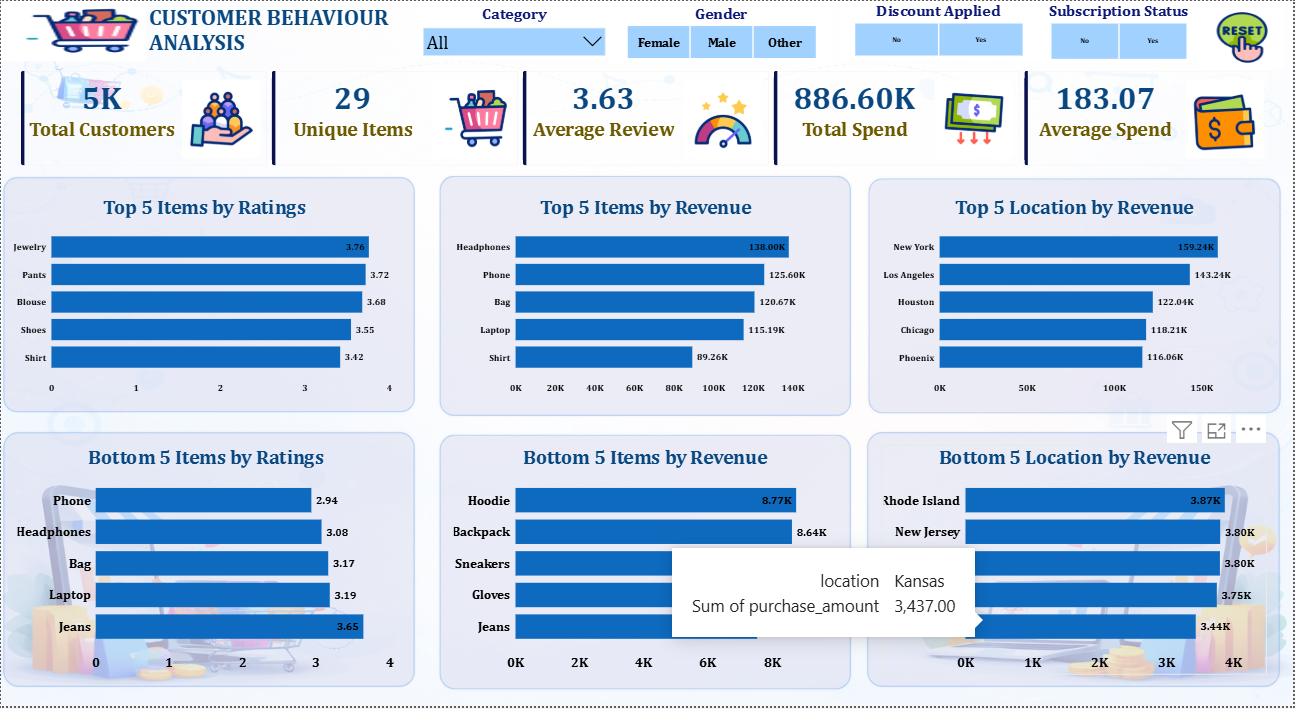

Layout of this report page (visuals, bound fields, positions):
{"tool":"powerbi","page":{"name":"Best and worst","canvas":[2200,1200],"ordinal":1},"visuals":[{"type":"cardVisual","fields":{"Data":["ecom_sales sales_data.Total Customers","ecom_sales sales_data.Unique Items","ecom_sales sales_data.Average Review","ecom_sales sales_data.Total Spend","ecom_sales sales_data.Average Spend"]},"box":[17.5,102.5,2162.5,195],"z":0},{"type":"shape","box":[741.7,293.8,708.3,416.7],"z":250,"group":"g1"},{"type":"shape","box":[0,296.2,708.3,408.3],"z":250,"group":"g2"},{"type":"shape","box":[1471.7,297.2,709.9,408],"z":250,"group":"g8"},{"type":"shape","box":[0,729.2,708.3,441.7],"z":250,"group":"g3"},{"type":"shape","box":[1470.8,729.2,710.4,441.7],"z":250,"group":"g7"},{"type":"shape","box":[741.7,734.2,708.3,441.7],"z":250,"group":"g5"},{"type":"group","id":"g1","title":"Group 1","box":[741.7,293.8,708.3,416.7],"z":500,"group":"g6"},{"type":"group","id":"g2","title":"Group 1","box":[0,296.2,708.3,408.3],"z":500,"group":"g4"},{"type":"group","id":"g3","title":"Group 1","box":[0,729.2,708.3,441.7],"z":1000},{"type":"group","id":"g4","title":"Group 5","box":[0,296.2,708.3,408.3],"z":2000},{"type":"group","id":"g5","title":"Group 1","box":[741.7,734.2,708.3,441.7],"z":3000},{"type":"group","id":"g6","title":"Group 5","box":[741.7,293.8,708.3,416.7],"z":4000},{"type":"group","id":"g7","title":"Group 1","box":[1470.8,729.2,710.4,441.7],"z":5000},{"type":"clusteredBarChart","title":"Top 5 Items by Ratings","fields":{"Category":["ecom_sales sales_data.item_purchased"],"Y":["Avg(ecom_sales sales_data.review_rating)"]},"box":[16.5,330.2,658,346.7],"z":6001},{"type":"group","id":"g8","title":"Group 2","box":[1471.7,297.2,709.9,408],"z":6002},{"type":"clusteredBarChart","title":"Bottom 5 Items by Ratings","fields":{"Category":["ecom_sales sales_data.item_purchased"],"Y":["Avg(ecom_sales sales_data.review_rating)"]},"box":[23.6,754.7,650.9,391.5],"z":6003},{"type":"clusteredBarChart","title":"Top 5 Items by Revenue","fields":{"Category":["ecom_sales sales_data.item_purchased"],"Y":["Sum(ecom_sales sales_data.purchase_amount)"]},"box":[768.9,330.2,658,346.7],"z":6004},{"type":"clusteredBarChart","title":"Bottom 5 Items by Revenue","fields":{"Category":["ecom_sales sales_data.item_purchased"],"Y":["Sum(ecom_sales sales_data.purchase_amount)"]},"box":[766.5,754.7,660.4,391.5],"z":6005},{"type":"clusteredBarChart","title":"Top 5 Location by Revenue","fields":{"Y":["Sum(ecom_sales sales_data.purchase_amount)"],"Category":["ecom_sales sales_data.location"]},"box":[1497.6,330.2,658,346.7],"z":6006},{"type":"clusteredBarChart","title":"Bottom 5 Location by Revenue","fields":{"Y":["Sum(ecom_sales sales_data.purchase_amount)"],"Category":["ecom_sales sales_data.location"]},"box":[1497.6,754.7,658,391.5],"z":6007},{"type":"textbox","box":[246,0,426,116],"z":6008},{"type":"actionButton","box":[0,0,246,102],"z":6009},{"type":"slicer","title":"Category","fields":{"Values":["ecom_sales sales_data.category"]},"box":[707.5,5,330,95],"z":6010},{"type":"slicer","title":"Gender","fields":{"Values":["ecom_sales sales_data.gender"]},"box":[1040,5,370,100],"z":6011},{"type":"slicer","title":"Discount Applied","fields":{"Values":["ecom_sales sales_data.discount_applied"]},"box":[1427.5,0,335,100],"z":6012},{"type":"slicer","title":"Subscription Status","fields":{"Values":["ecom_sales sales_data.subscription_status"]},"box":[1762.5,0,280,105],"z":6013},{"type":"actionButton","box":[2042.5,12.5,140,102.5],"z":6014}]}

Visuals, with their boxes in screenshot pixels (x1, y1, x2, y2), scaled from the page's 2200x1200 canvas onto the 1295x709 screenshot:
cardVisual - ecom_sales sales_data.Total Customers x ecom_sales sales_data.Unique Items: [left=10, top=61, right=1283, bottom=176]
shape: [left=437, top=174, right=854, bottom=420]
shape: [left=0, top=175, right=417, bottom=416]
shape: [left=866, top=176, right=1284, bottom=417]
shape: [left=0, top=431, right=417, bottom=692]
shape: [left=866, top=431, right=1284, bottom=692]
shape: [left=437, top=434, right=854, bottom=695]
"Group 1" group: [left=437, top=174, right=854, bottom=420]
"Group 1" group: [left=0, top=175, right=417, bottom=416]
"Group 1" group: [left=0, top=431, right=417, bottom=692]
"Group 5" group: [left=0, top=175, right=417, bottom=416]
"Group 1" group: [left=437, top=434, right=854, bottom=695]
"Group 5" group: [left=437, top=174, right=854, bottom=420]
"Group 1" group: [left=866, top=431, right=1284, bottom=692]
"Top 5 Items by Ratings" clusteredBarChart: [left=10, top=195, right=397, bottom=400]
"Group 2" group: [left=866, top=176, right=1284, bottom=417]
"Bottom 5 Items by Ratings" clusteredBarChart: [left=14, top=446, right=397, bottom=677]
"Top 5 Items by Revenue" clusteredBarChart: [left=453, top=195, right=840, bottom=400]
"Bottom 5 Items by Revenue" clusteredBarChart: [left=451, top=446, right=840, bottom=677]
"Top 5 Location by Revenue" clusteredBarChart: [left=882, top=195, right=1269, bottom=400]
"Bottom 5 Location by Revenue" clusteredBarChart: [left=882, top=446, right=1269, bottom=677]
textbox: [left=145, top=0, right=396, bottom=69]
actionButton: [left=0, top=0, right=145, bottom=60]
"Category" slicer: [left=416, top=3, right=611, bottom=59]
"Gender" slicer: [left=612, top=3, right=830, bottom=62]
"Discount Applied" slicer: [left=840, top=0, right=1037, bottom=59]
"Subscription Status" slicer: [left=1037, top=0, right=1202, bottom=62]
actionButton: [left=1202, top=7, right=1285, bottom=68]
